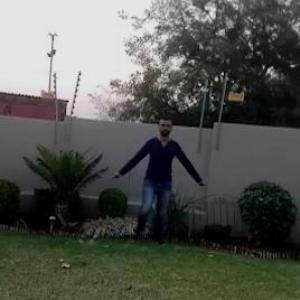land: (101, 112, 204, 248)
